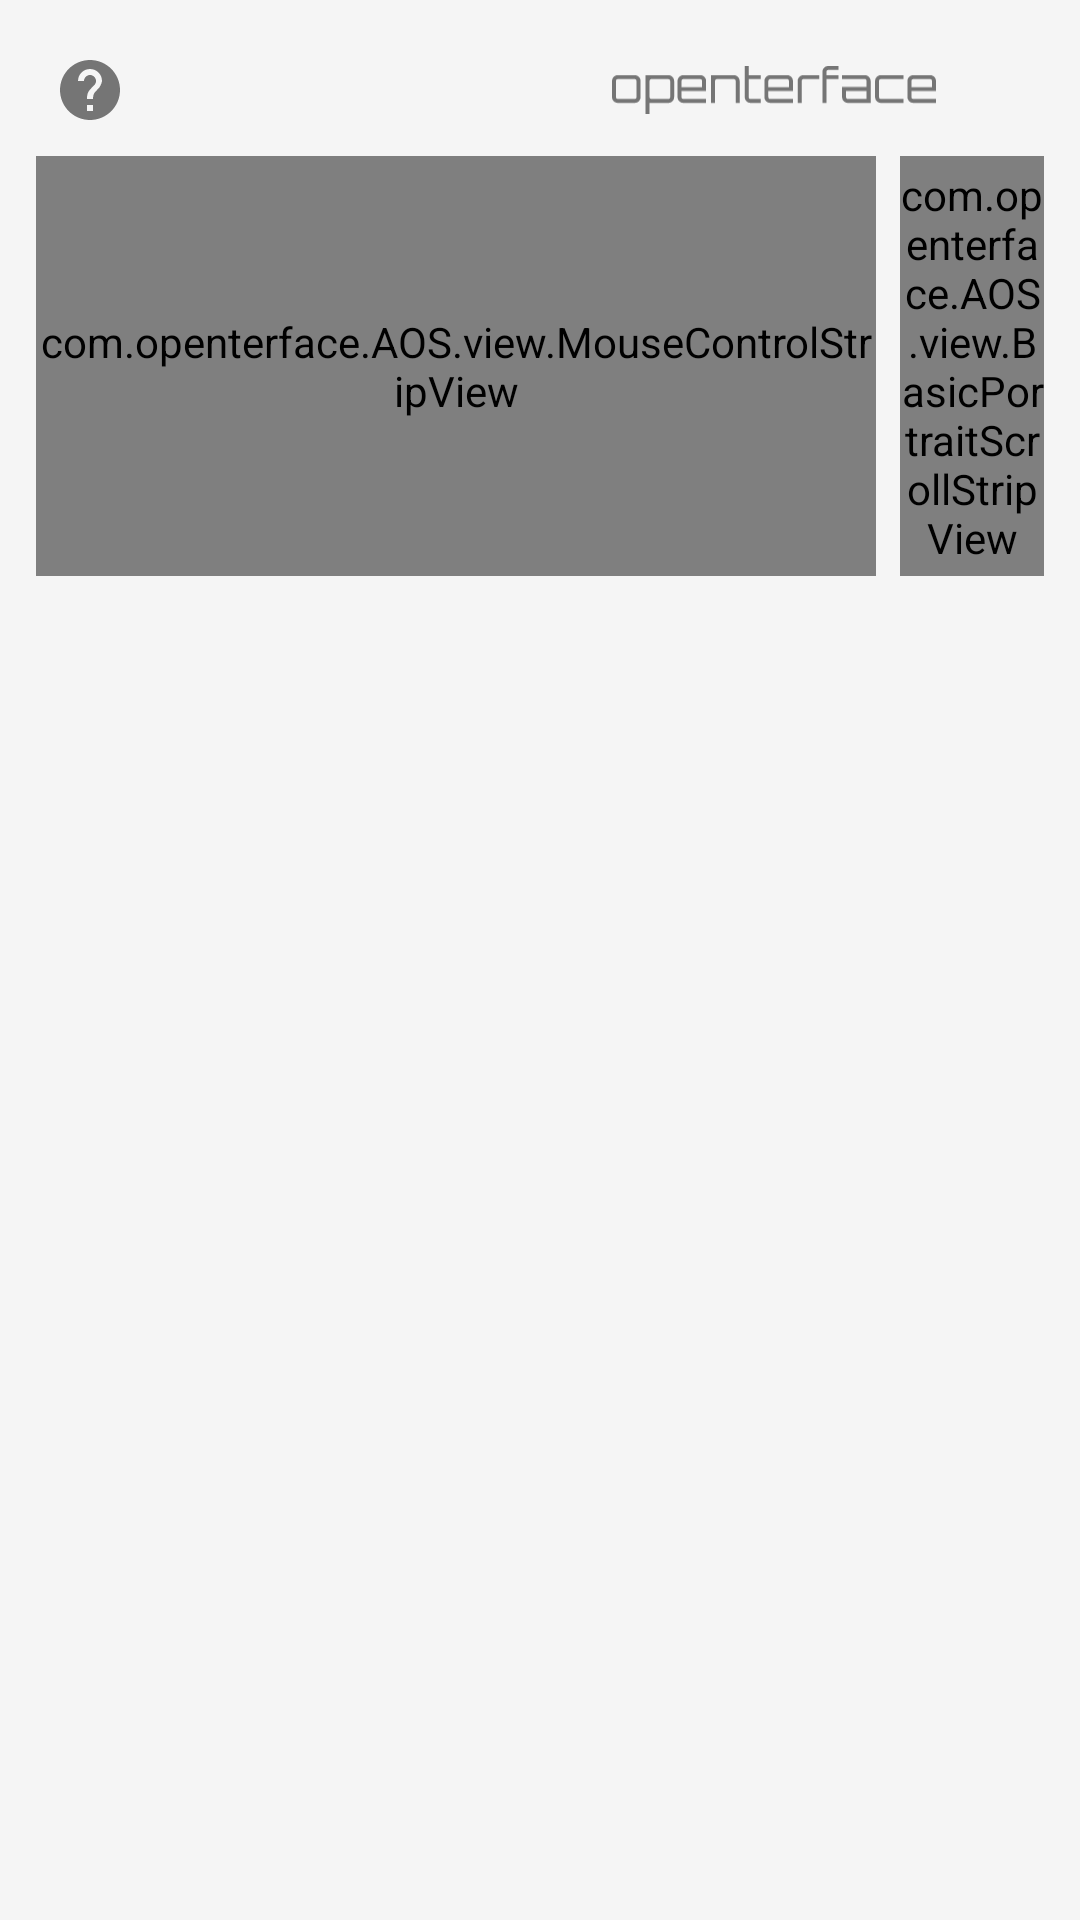

Named icons in this screenshot (1080px×1920px) and their bounding boxes, (x1,y1,x2,y2):
Mouse help: (60,60,120,120)
